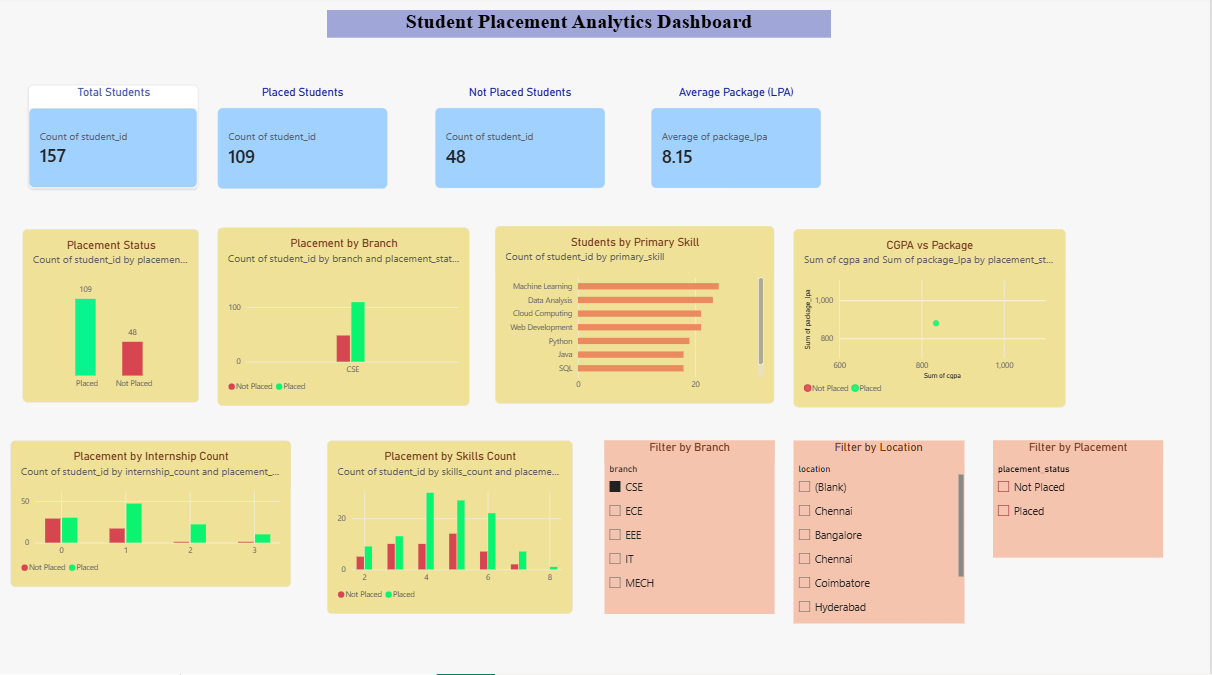

What the dashboard file says about the page in this screenshot:
{"tool":"powerbi","page":{"name":"Placement Overview","canvas":[1920,1080],"ordinal":0},"visuals":[{"type":"textbox","box":[518,20,800,44],"z":0},{"type":"cardVisual","title":"Total Students","fields":{"Data":["Count(placement_cleaned_data.student_id)"]},"box":[45,137.5,269.6,164.6],"z":1000},{"type":"cardVisual","title":"Placed Students","fields":{"Data":["CountNonNull(placement_cleaned_data.student_id)"]},"box":[345,137.5,270,165],"z":2000},{"type":"cardVisual","title":"Not Placed Students","fields":{"Data":["CountNonNull(placement_cleaned_data.student_id)"]},"box":[690,137.5,270,164],"z":3000},{"type":"cardVisual","title":"Average Package (LPA)","fields":{"Data":["Avg(placement_cleaned_data.package_lpa)"]},"box":[1032.5,137.5,270,164],"z":4000},{"type":"clusteredColumnChart","title":"Placement Status","fields":{"Category":["placement_cleaned_data.placement_status"],"Y":["CountNonNull(placement_cleaned_data.student_id)"]},"box":[35,367.5,280,275],"z":5000},{"type":"clusteredColumnChart","title":"Placement by Branch","fields":{"Category":["placement_cleaned_data.branch"],"Series":["placement_cleaned_data.placement_status"],"Y":["CountNonNull(placement_cleaned_data.student_id)"]},"box":[345,365,400,283.3],"z":6000},{"type":"clusteredBarChart","title":"Students by Primary Skill","fields":{"Category":["placement_cleaned_data.primary_skill"],"Y":["CountNonNull(placement_cleaned_data.student_id)"]},"box":[785,362.5,443.3,281.7],"z":7000},{"type":"scatterChart","title":"CGPA vs Package","fields":{"Series":["placement_cleaned_data.placement_status"],"X":["Sum(placement_cleaned_data.cgpa)"],"Y":["Sum(placement_cleaned_data.package_lpa)"]},"box":[1260,367.5,431.7,283.3],"z":8000},{"type":"slicer","title":"Filter by Branch","fields":{"Values":["placement_cleaned_data.branch"]},"box":[960,702.5,270,275],"z":9000},{"type":"slicer","title":"Filter by Placement","fields":{"Values":["placement_cleaned_data.placement_status"]},"box":[1575,702.5,270,186],"z":10000},{"type":"slicer","title":"Filter by Location","fields":{"Values":["placement_cleaned_data.location"]},"box":[1260,702.5,270,290],"z":11000},{"type":"clusteredColumnChart","title":"Placement by Internship Count","fields":{"Category":["placement_cleaned_data.internship_count"],"Series":["placement_cleaned_data.placement_status"],"Y":["CountNonNull(placement_cleaned_data.student_id)"]},"box":[17.5,702.5,445,232.5],"z":12000},{"type":"clusteredColumnChart","title":"Placement by Skills Count","fields":{"Category":["placement_cleaned_data.skills_count"],"Series":["placement_cleaned_data.placement_status"],"Y":["CountNonNull(placement_cleaned_data.student_id)"]},"box":[520,702.5,390,275],"z":12001}]}

Visuals, with their boxes in screenshot pixels (x1, y1, x2, y2), scaled from the page's 1920x1080 canvas onto the 1212x675 screenshot:
textbox: (x1=327, y1=12, x2=832, y2=40)
"Total Students" cardVisual: (x1=28, y1=86, x2=199, y2=189)
"Placed Students" cardVisual: (x1=218, y1=86, x2=388, y2=189)
"Not Placed Students" cardVisual: (x1=436, y1=86, x2=606, y2=188)
"Average Package (LPA)" cardVisual: (x1=652, y1=86, x2=822, y2=188)
"Placement Status" clusteredColumnChart: (x1=22, y1=230, x2=199, y2=402)
"Placement by Branch" clusteredColumnChart: (x1=218, y1=228, x2=470, y2=405)
"Students by Primary Skill" clusteredBarChart: (x1=496, y1=227, x2=775, y2=403)
"CGPA vs Package" scatterChart: (x1=795, y1=230, x2=1068, y2=407)
"Filter by Branch" slicer: (x1=606, y1=439, x2=776, y2=611)
"Filter by Placement" slicer: (x1=994, y1=439, x2=1165, y2=555)
"Filter by Location" slicer: (x1=795, y1=439, x2=966, y2=620)
"Placement by Internship Count" clusteredColumnChart: (x1=11, y1=439, x2=292, y2=584)
"Placement by Skills Count" clusteredColumnChart: (x1=328, y1=439, x2=574, y2=611)
